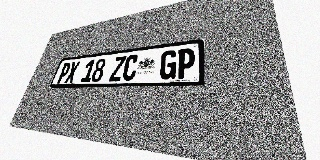1: (80, 59, 97, 82)
8: (90, 58, 107, 82)
C: (121, 54, 139, 81)
G: (159, 50, 178, 79)
P: (176, 48, 195, 79), (56, 62, 72, 83)
X: (64, 61, 80, 83)
Z: (109, 56, 127, 81)
